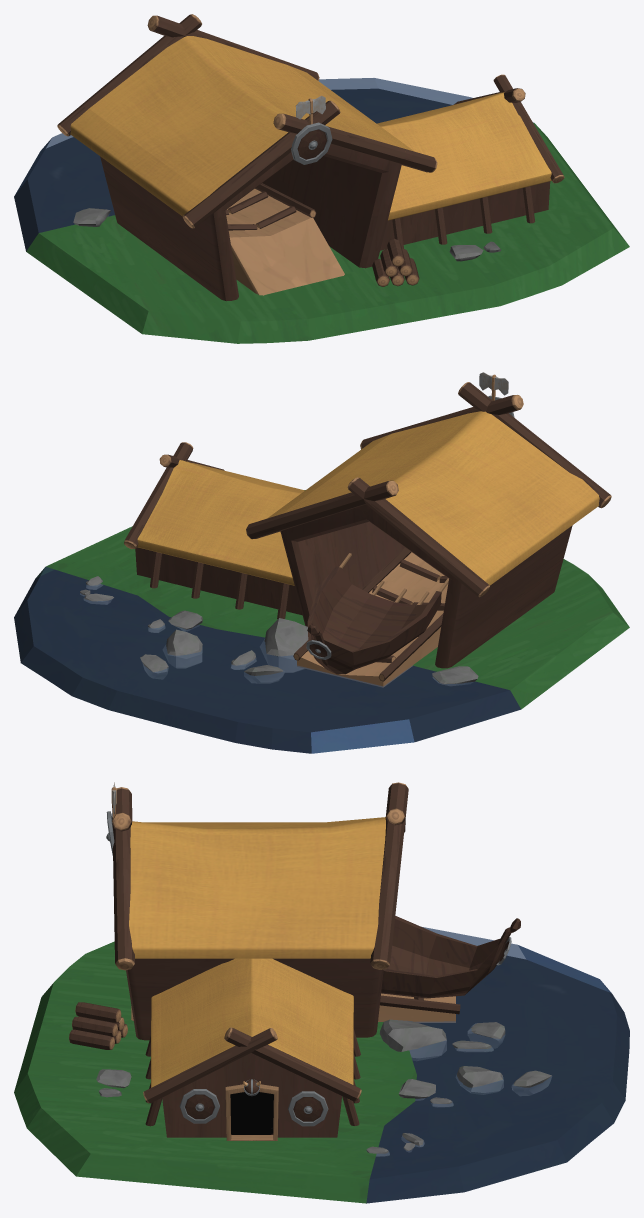
The model's file is viking_shipyard.glb.
3 renders of one model, top to bottom at view 1: azimuth 30°, elevation 25°; view 2: azimuth 150°, elevation 25°; view 3: azimuth 270°, elevation 25°, orthographic. The views are drawn at different scales.
Visible parts, largest first — view 1: HUIS, WATER; view 2: HUIS, WATER; view 3: HUIS, WATER.
Boxes of the visible parts, bbox=[...] form: HUIS: bbox=[14, 14, 629, 343]; WATER: bbox=[14, 78, 533, 251]; HUIS: bbox=[14, 372, 629, 753]; WATER: bbox=[14, 567, 520, 753]; HUIS: bbox=[14, 782, 629, 1203]; WATER: bbox=[366, 926, 629, 1203].
Bounding box in the file's own units: 473 × 188 × 455.
2 materials, 2 textured.
